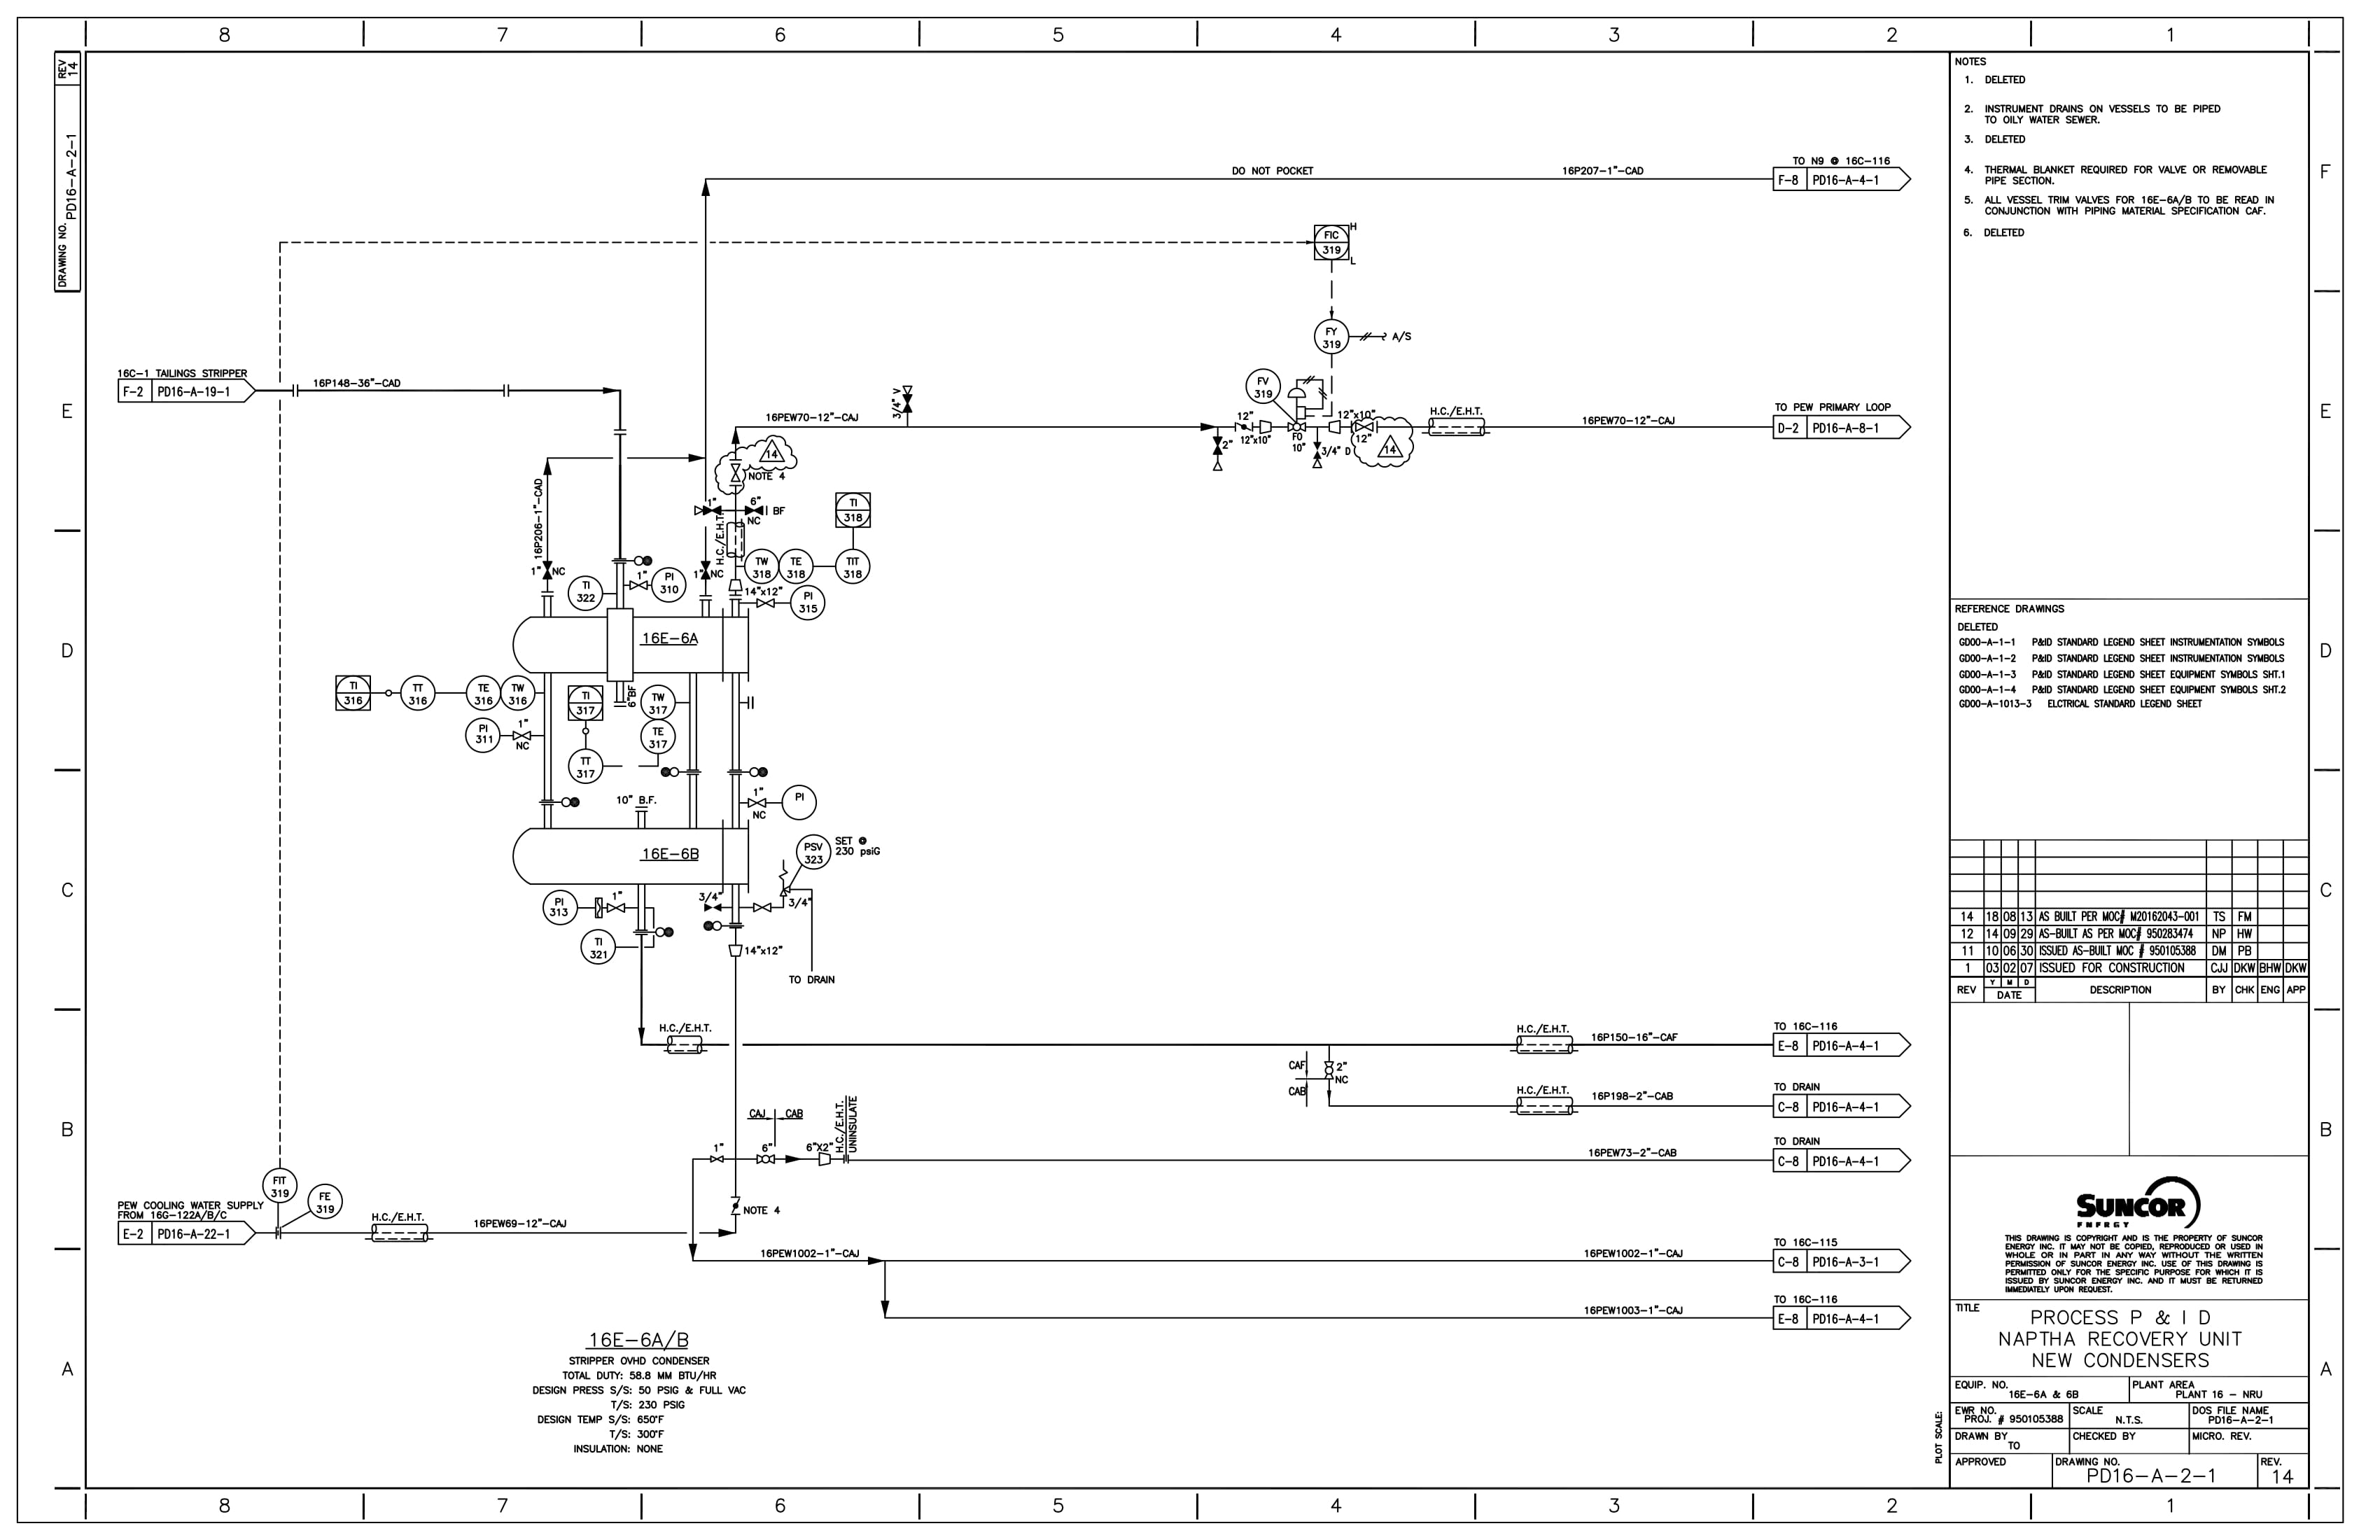DrainValve: (902, 383, 914, 416), (1311, 439, 1322, 470)
GateValve: (628, 581, 651, 590), (746, 798, 768, 806), (756, 600, 777, 609), (753, 904, 774, 912)
